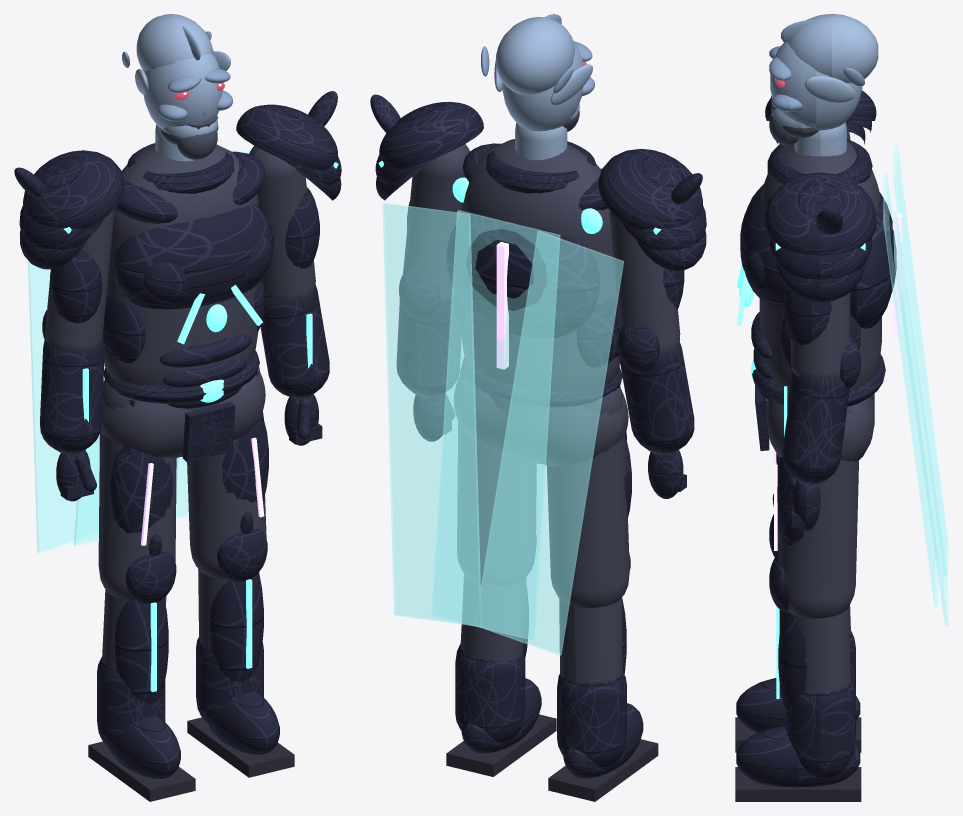
Rendered from taredesiban_playable.glb.
3 renders of one model, left to right at view 1: azimuth 30°, elevation 25°; view 2: azimuth 150°, elevation 25°; view 3: azimuth 270°, elevation 25°, orthographic. The views are drawn at different scales.
Visible parts, largest first — view 1: Torso, Breastplate, Cape 0, Pauldron 0 R, Gauntlet R, Gauntlet L, Thigh R, Pelvis, Thigh L, Upper arm L, Pauldron 0 L, Greave L (+39 smaller); view 2: Cape 1, Cape 2, Cape 0, Torso, Back plate, Thigh R, Thigh L, Pelvis, Pauldron 0 R, Upper arm L, Gauntlet R, Boot cuff R (+29 smaller); view 3: Thigh L, Pauldron 0 L, Gauntlet L, Boot cuff L, Torso, Cranium, Cape 2, Cape 1, Cape 0, Boot L, Shin L, Back plate (+28 smaller).
Boxes of the visible parts, x1,y1,x2,y2 form: Torso: (104,144,258,385); Breastplate: (113,204,273,309); Cape 0: (28,260,104,553); Pauldron 0 R: (23,150,124,228); Gauntlet R: (40,338,104,452); Gauntlet L: (260,285,329,396); Thigh R: (98,380,176,600); Pelvis: (100,372,265,458); Thigh L: (187,367,266,579); Upper arm L: (249,145,315,300); Pauldron 0 L: (236,104,337,170); Greave L: (209,572,263,682); Cape 1: (431,210,560,640); Cape 2: (382,202,481,626); Cape 0: (475,231,624,655); Torso: (460,139,619,391); Back plate: (446,212,599,337); Thigh R: (547,387,629,607); Thigh L: (457,367,535,584); Pelvis: (454,379,628,466); Pauldron 0 R: (598,149,702,229); Upper arm L: (403,144,469,301); Gauntlet R: (619,342,694,452); Boot cuff R: (557,672,626,767); Thigh L: (778,405,858,618); Pauldron 0 L: (765,172,876,255); Gauntlet L: (782,371,849,483); Boot cuff L: (785,680,855,778); Torso: (759,141,881,392); Cranium: (788,14,878,83); Cape 2: (893,211,948,626); Cape 1: (883,173,938,607); Cape 0: (893,145,948,578); Boot L: (736,726,860,787); Shin L: (795,608,850,694); Back plate: (850,192,896,328).
Size of the model in its own units: 0.8427 by 1.84 by 0.4744.
12 materials, 2 textured.
